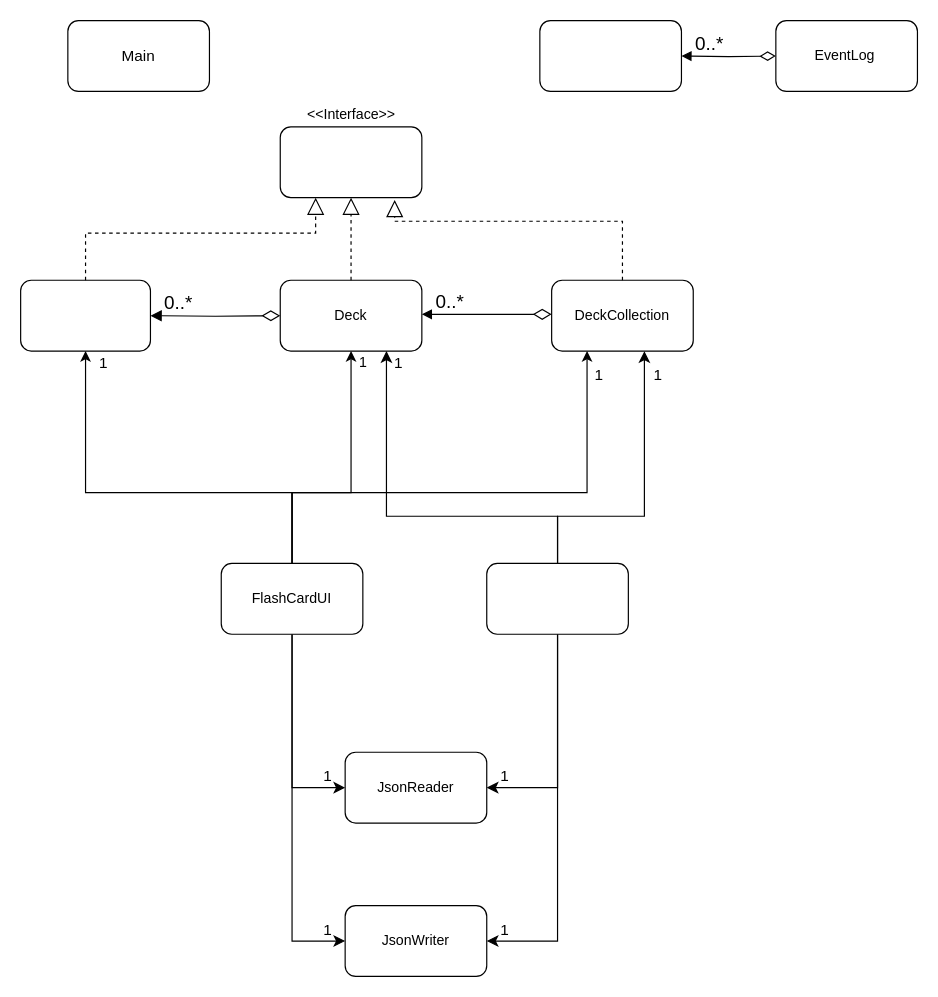
This 938x997 diagram has some shape labels left out. The centre of each missing label's shape, as x and y in pixels:
"Card" belongs at (84,315).
"Event" belongs at (610,55).
"FlashCardConsole" belongs at (557,598).
"Writable" belongs at (350,162).
